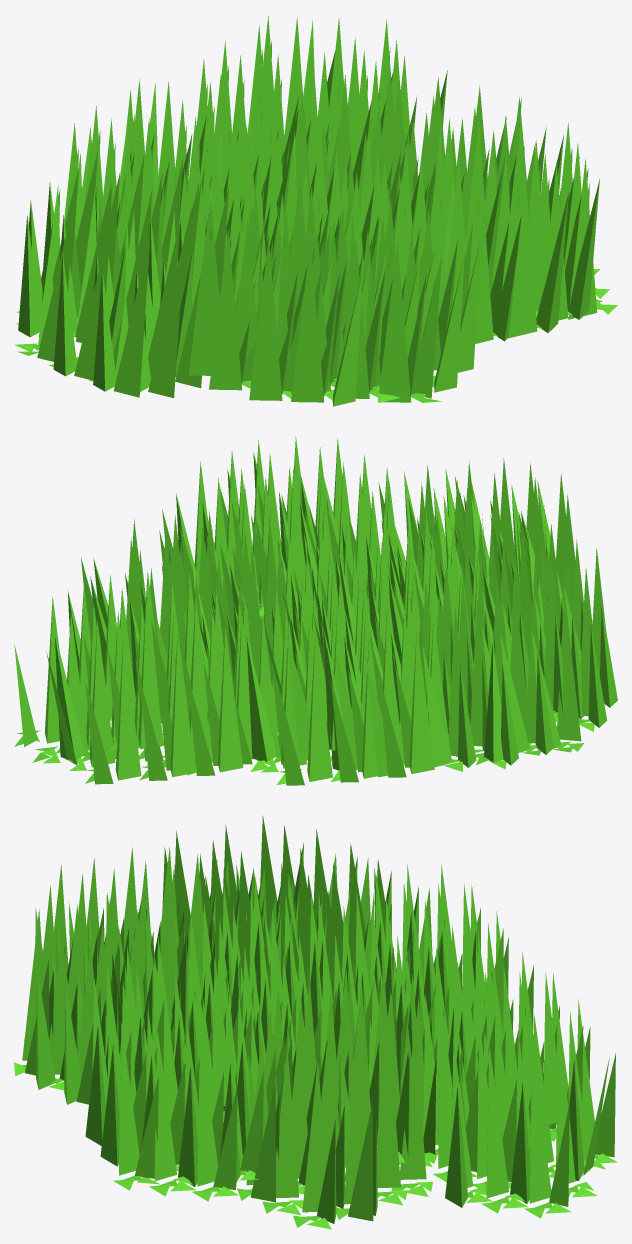
Rendered from grass.fbx.
The picture shows the model from 3 angles, top to bottom: view 1: azimuth 30°, elevation 25°; view 2: azimuth 150°, elevation 25°; view 3: azimuth 270°, elevation 25°; orthographic projection. The views are drawn at different scales.
Visible parts, largest first — view 1: Cone.008; view 2: Cone.008; view 3: Cone.008.
Part boxes in pixels (x1=…): Cone.008: x1=14, y1=16, x2=617, y2=406; Cone.008: x1=14, y1=436, x2=617, y2=785; Cone.008: x1=14, y1=815, x2=617, y2=1229.
Bounding box in the file's own units: 185 × 70.78 × 189.
